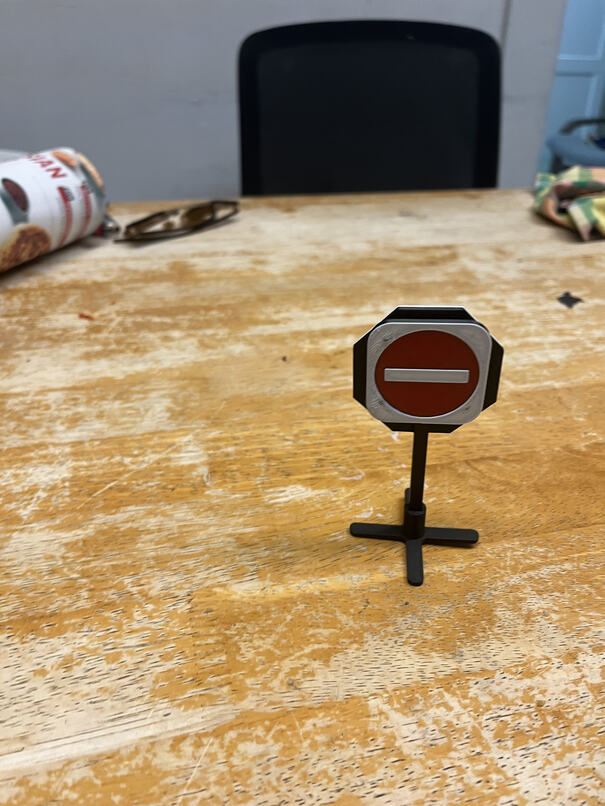sign_noentry: (364, 321, 486, 424)
